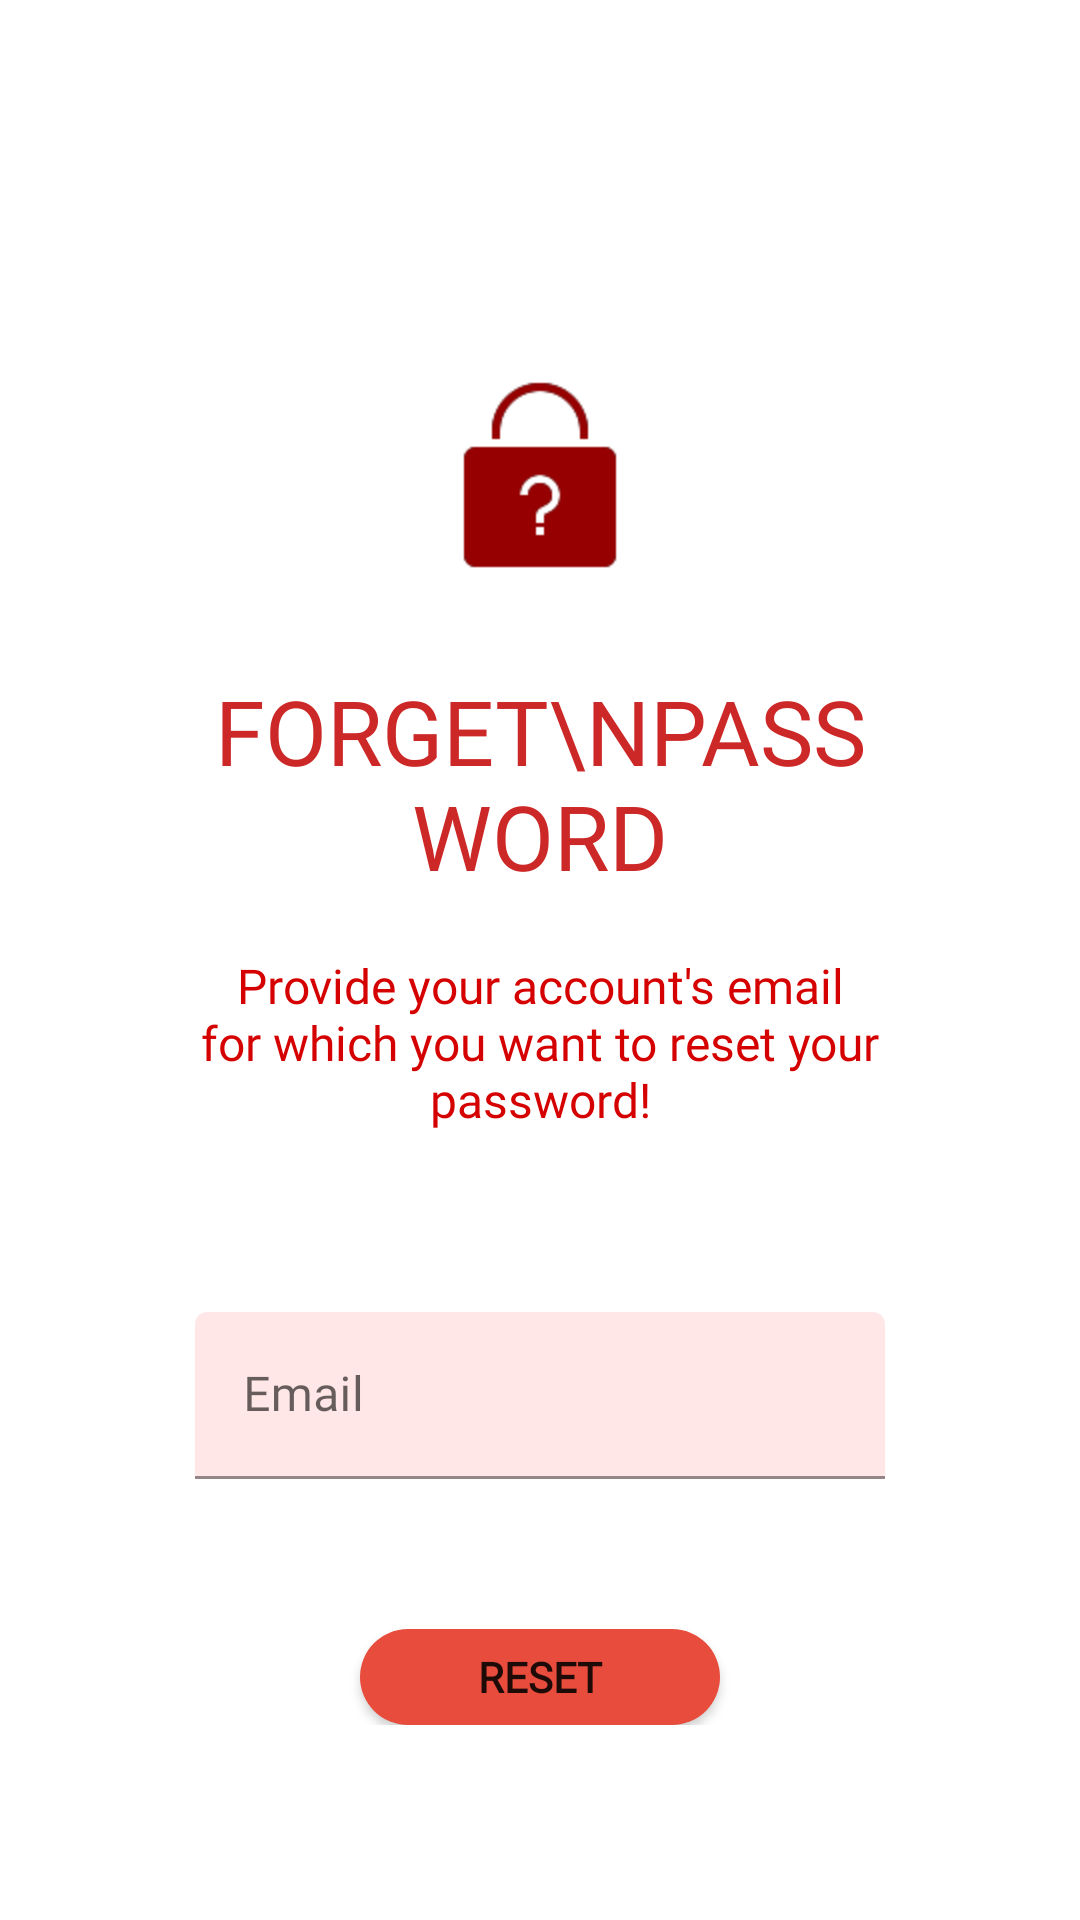

Locate icon controls on the screen. Image size 1080px×1920px, boxes as bbox=(x1, y1, x2, y2).
forget password: bbox=(463, 382, 617, 568)
